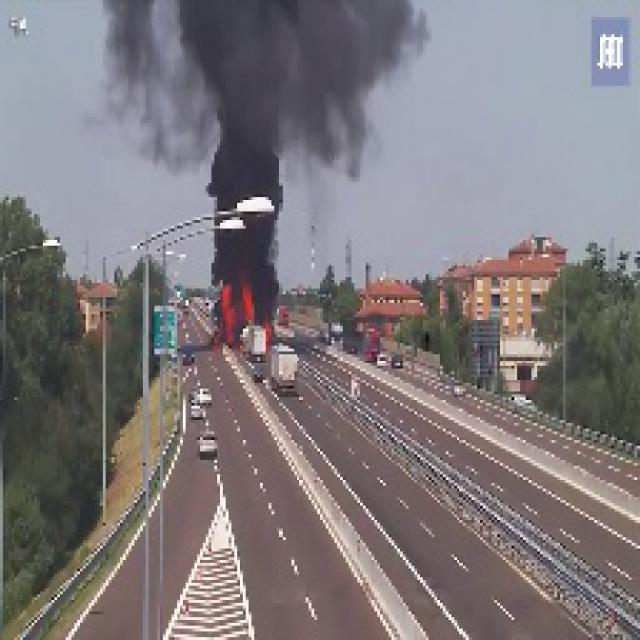fire: (217, 277, 274, 352)
